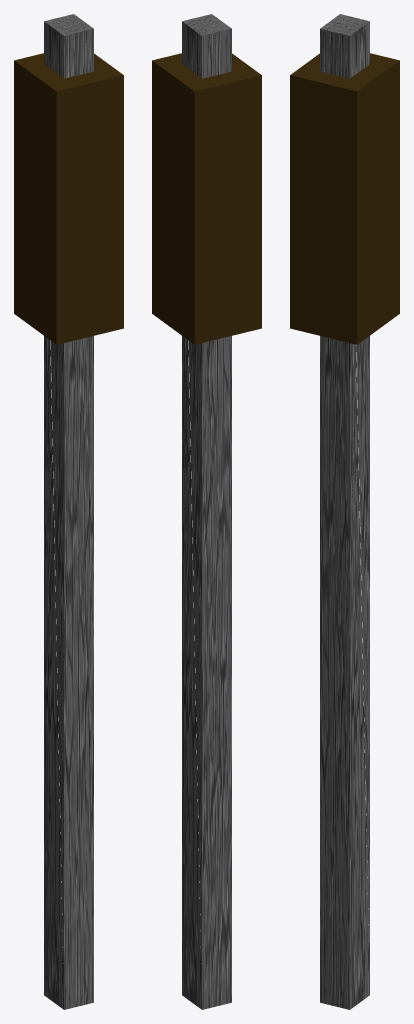
Rendered from Reed.gltf.
3 renders of one model, left to right at view 1: azimuth 30°, elevation 25°; view 2: azimuth 210°, elevation 25°; view 3: azimuth 330°, elevation 25°, orthographic.
Parts seen in each view (by area): view 1: CSGBox3D; view 2: CSGBox3D; view 3: CSGBox3D.
Part boxes in pixels (x1=…): CSGBox3D: x1=14, y1=14, x2=123, y2=1009; CSGBox3D: x1=152, y1=14, x2=261, y2=1009; CSGBox3D: x1=290, y1=14, x2=399, y2=1009.
Bounding box in the file's own units: 0.1859 × 2.57 × 0.2039.
2 materials, 2 textured.
